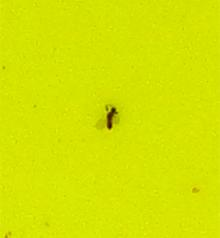Hymenoptera: (100, 100, 120, 138)
